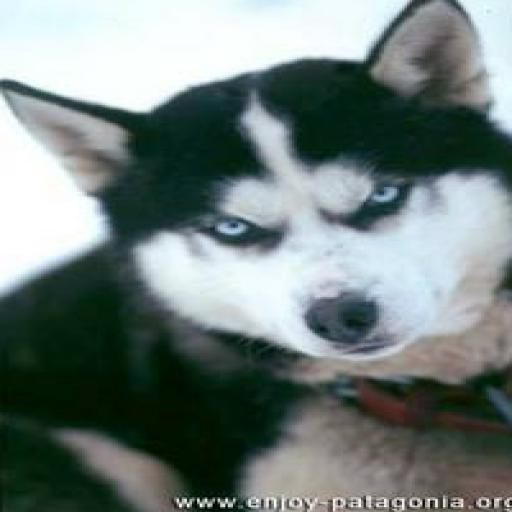dog_face: (6, 8, 503, 358)
